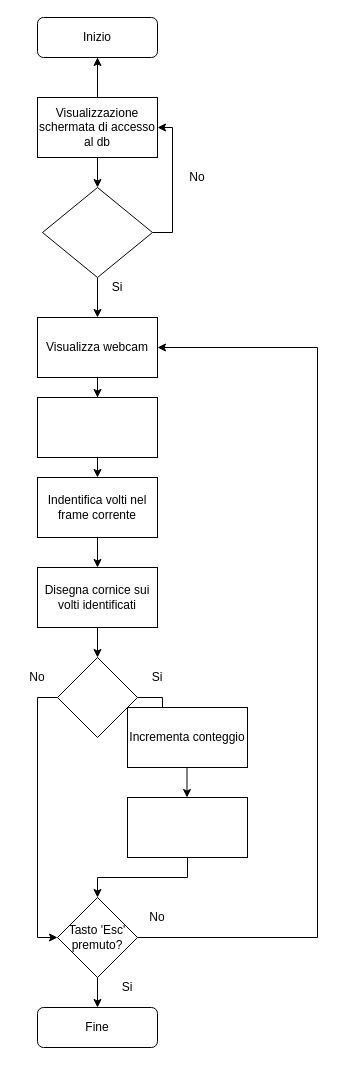
The diagram is 343 pixels wide and 1065 high, and some of its shapes have lost their labels. The box of each missing label's shape, as (x1, y1, x2, y2) in pixels:
Accesso al database eseguito?: (42, 186, 152, 278)
Invia dati al database: (126, 796, 248, 858)
Leggi frame corrente: (36, 396, 158, 458)
Nuovo volto presente?: (56, 656, 138, 738)
